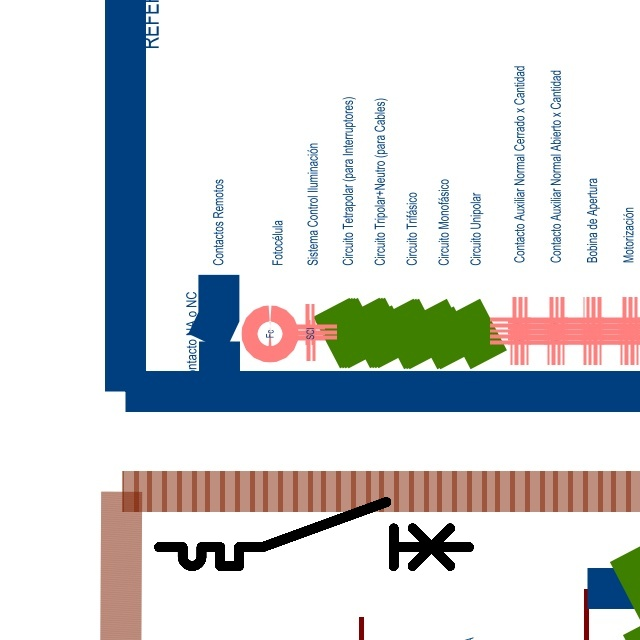interruptor_termomagnetico: (151, 494, 477, 574)
